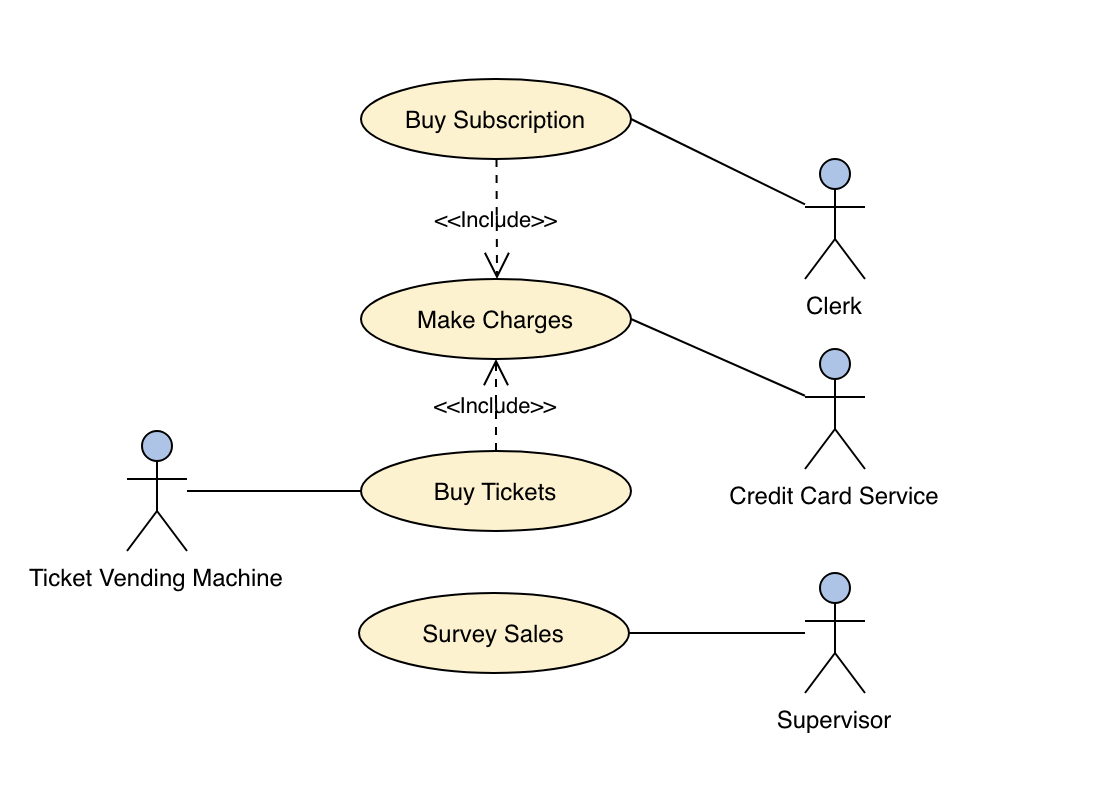actor: (115, 411, 195, 556), (800, 151, 873, 286), (803, 346, 877, 470), (803, 568, 867, 697)
association: (634, 116, 806, 206), (630, 317, 806, 397), (631, 612, 806, 651), (190, 473, 360, 503), (480, 160, 520, 279), (479, 360, 515, 449)
text: (20, 560, 297, 599), (718, 474, 946, 520), (397, 103, 590, 141), (411, 298, 586, 339), (425, 471, 574, 512), (414, 620, 573, 653), (769, 705, 904, 737), (424, 206, 563, 233), (428, 393, 558, 421), (800, 292, 879, 323)
use_case: (359, 77, 634, 163), (358, 449, 633, 535), (357, 590, 632, 676), (359, 275, 633, 361)
